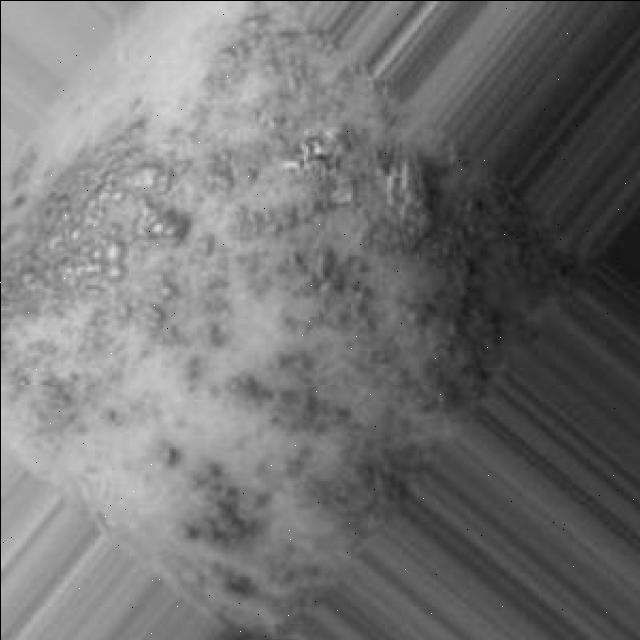Shingles: (0, 10, 566, 631)
